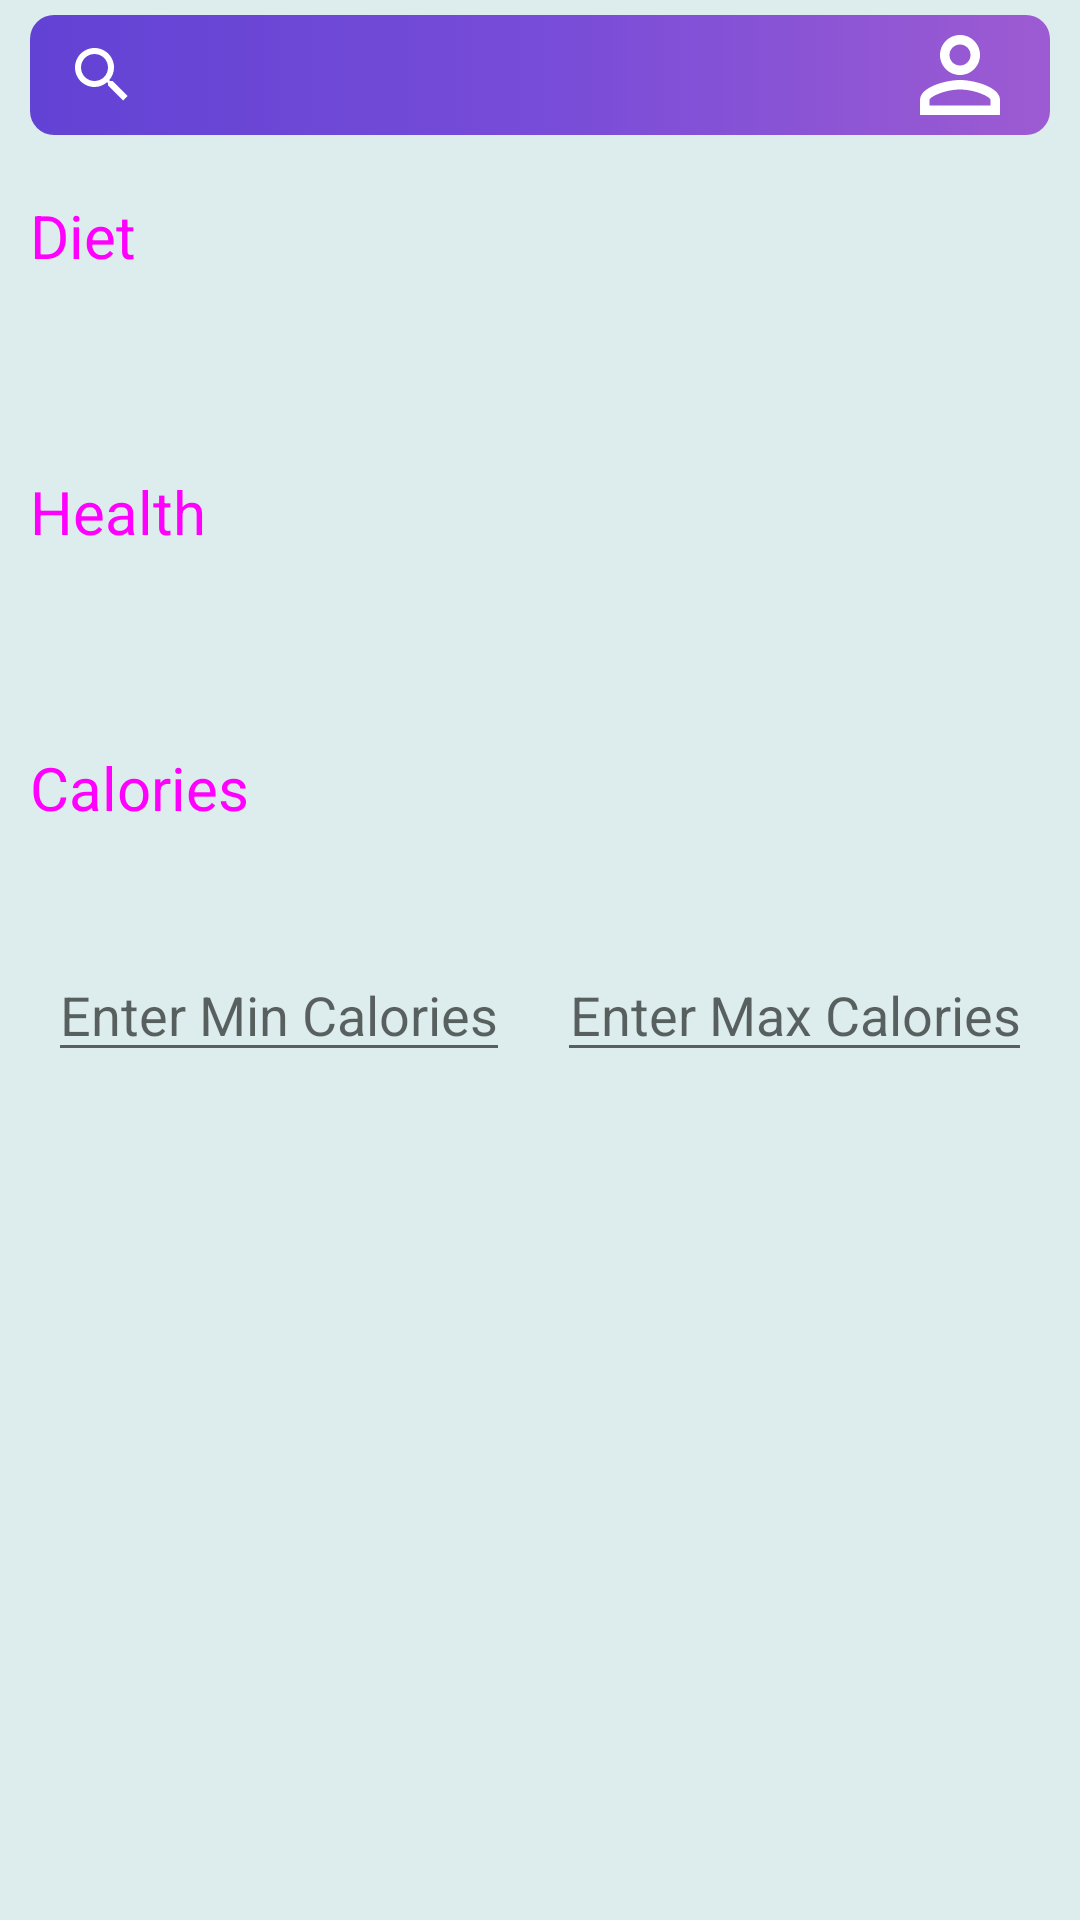

Named icons in this screenshot (1080x1920) and their centers, point (x, y):
profile: point (960, 75)
